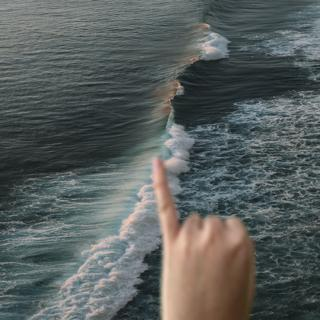Fine: (140, 150, 267, 317)
